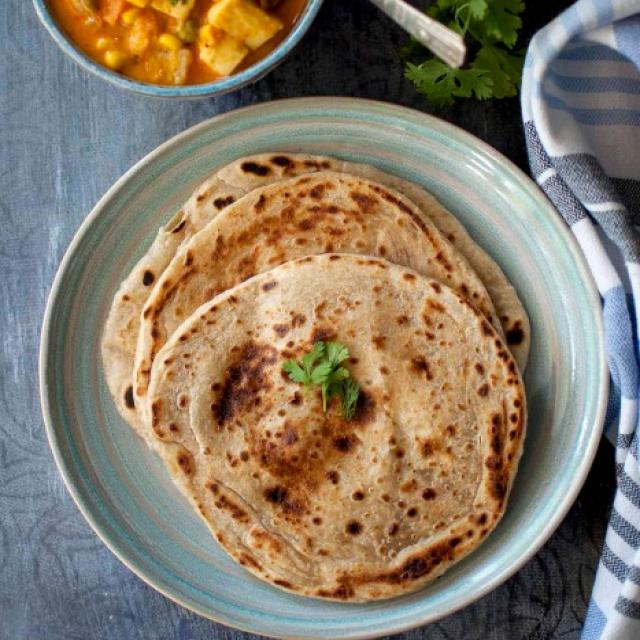CURRY: (36, 0, 319, 82)
PAROTTA: (96, 152, 534, 605)
